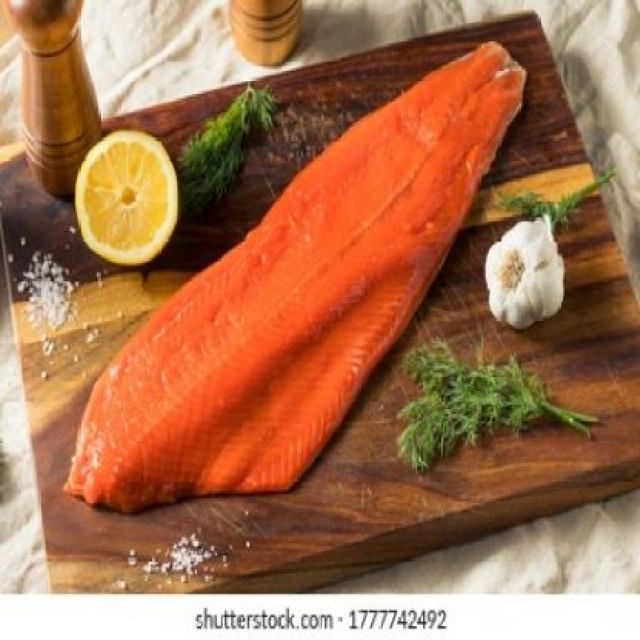salmon: (46, 42, 537, 514)
